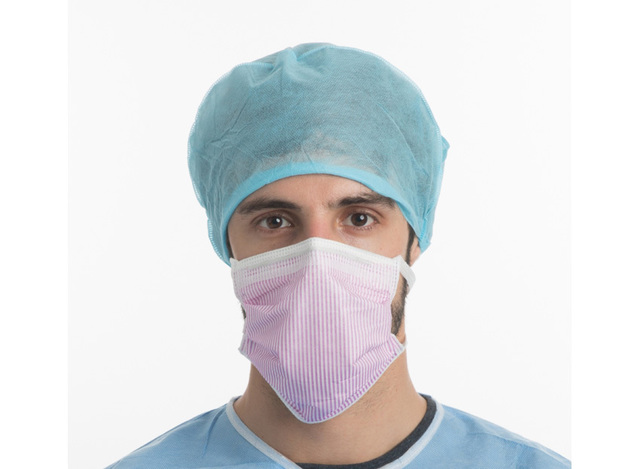mask: (227, 252, 399, 405)
